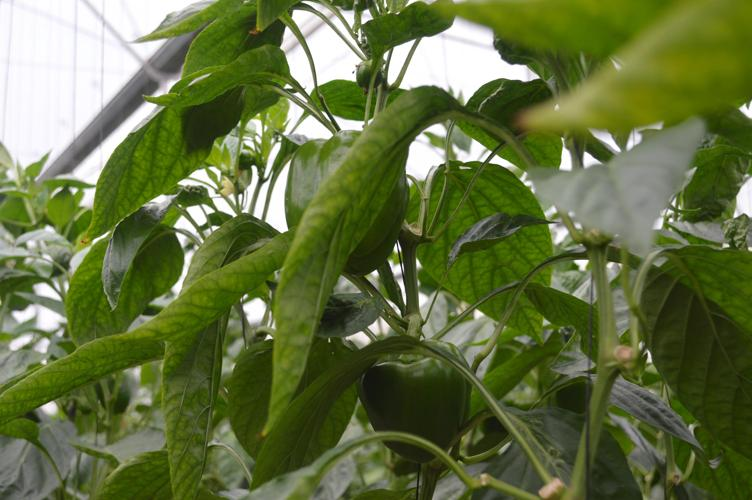BellPepper: (273, 125, 406, 274), (345, 339, 476, 476)
